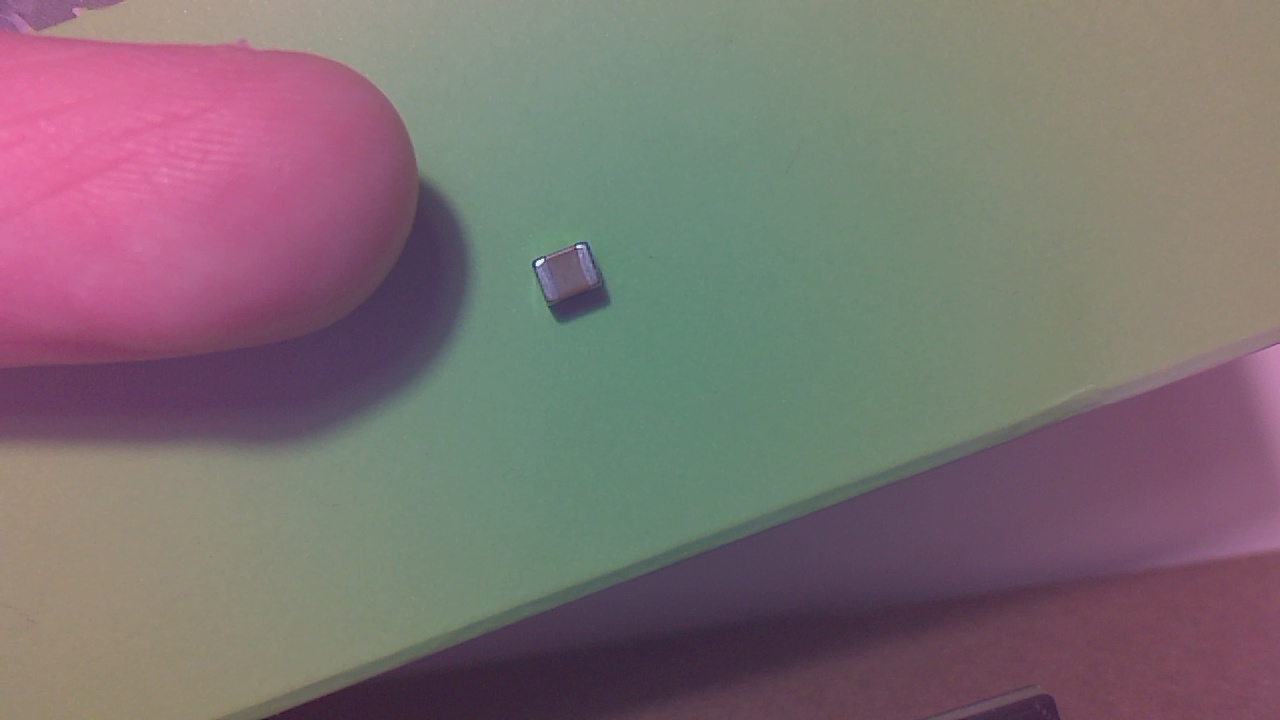Condensator: (538, 248, 615, 316)
